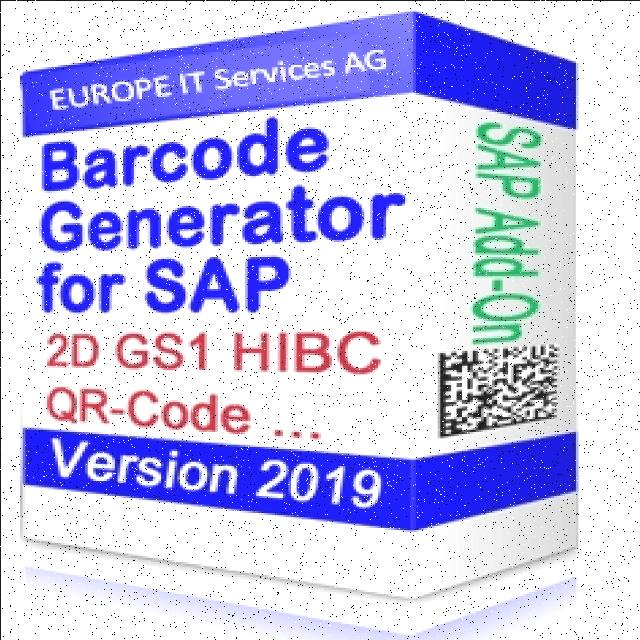datamatrix: (428, 337, 567, 444)
